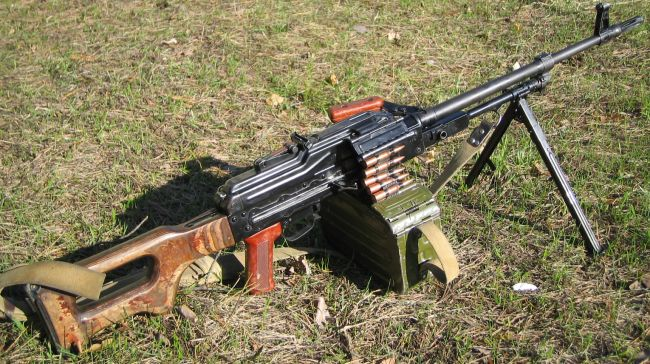rifle: (8, 14, 640, 348)
